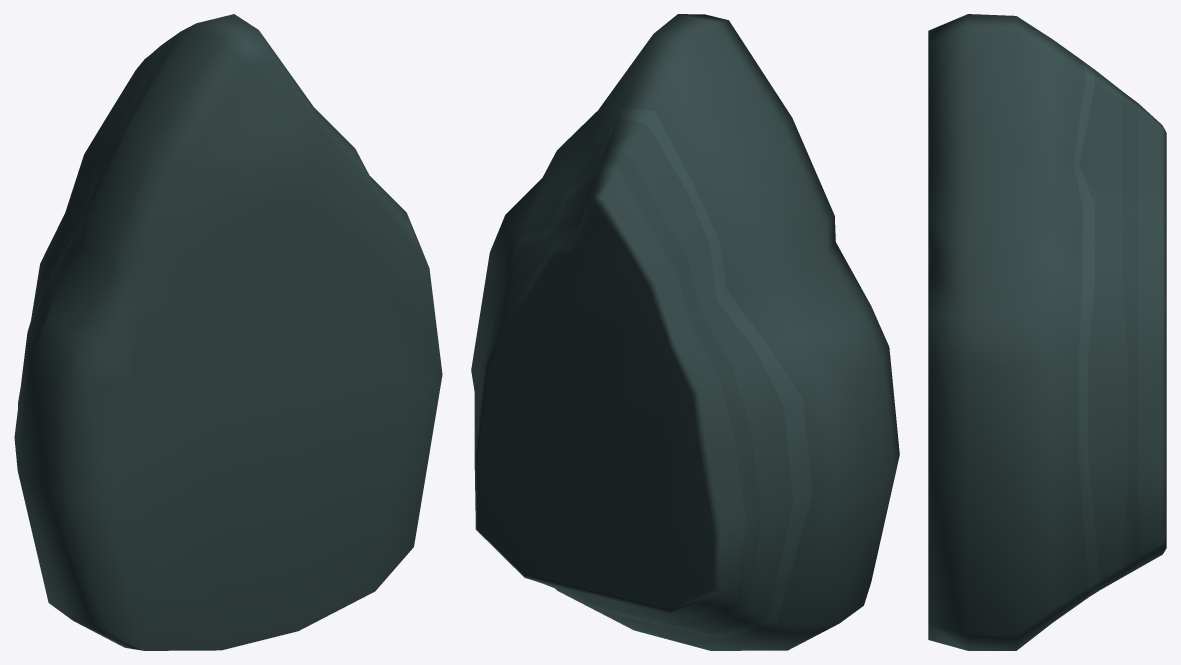
The model's file is AlienCliff.004.glb.
3 renders of one model, left to right at view 1: azimuth 30°, elevation 25°; view 2: azimuth 150°, elevation 25°; view 3: azimuth 270°, elevation 25°, orthographic.
Parts seen in each view (by area): view 1: AlienCliff.004; view 2: AlienCliff.004; view 3: AlienCliff.004.
Boxes of the visible parts, x1,y1,x2,y2 form: AlienCliff.004: (14,14,442,650); AlienCliff.004: (471,14,899,650); AlienCliff.004: (928,14,1166,650).
Size of the model in its own units: 5450 by 7956 by 2886.
